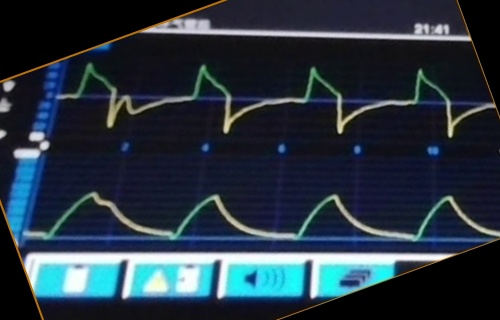Premature_cycling Flow: (75, 55, 476, 139)
Premature_cycling Volume: (41, 171, 479, 244)
